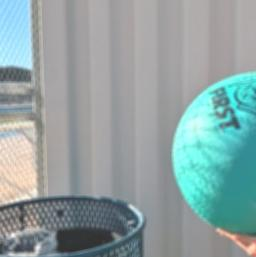algae: (177, 70, 256, 241)
